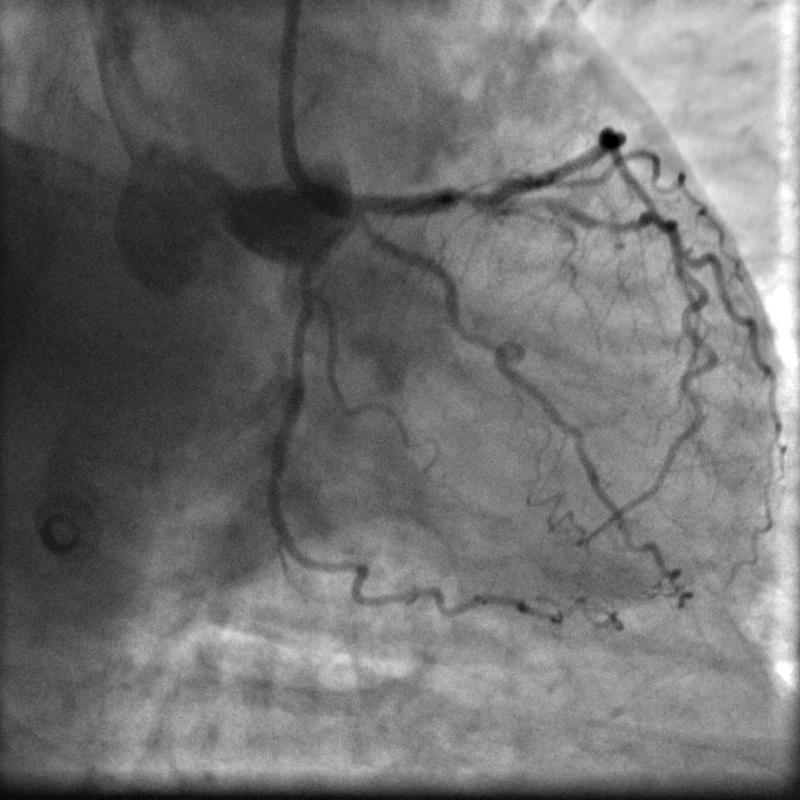Stenosis: (451, 184, 486, 213)
